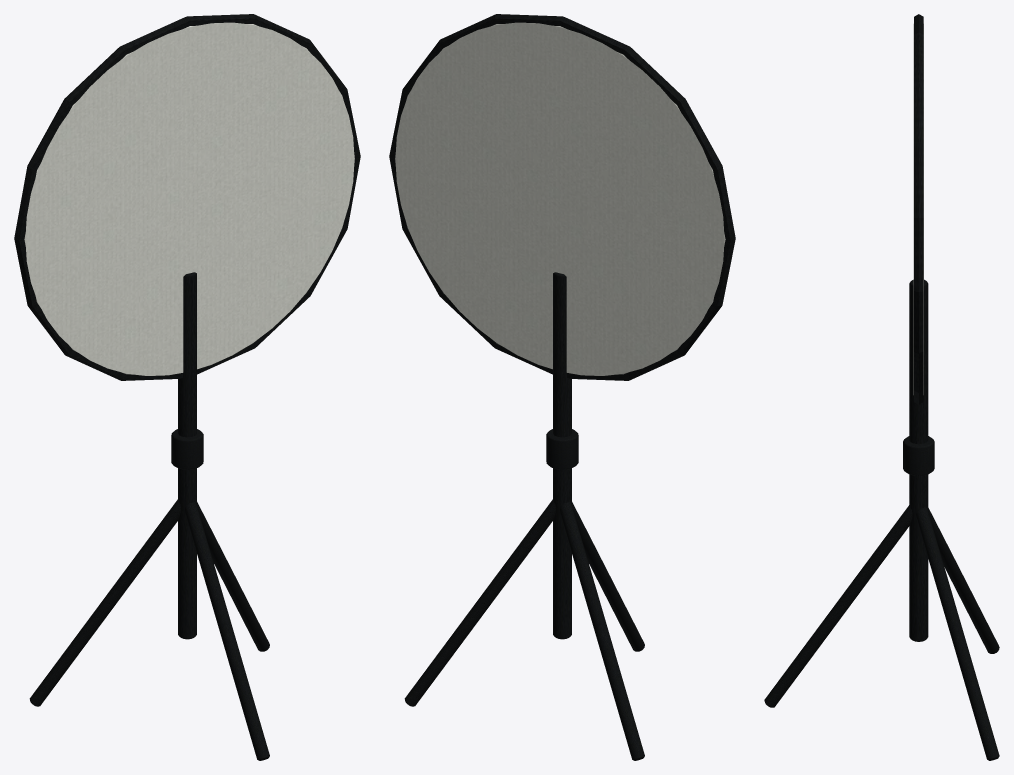
The model's file is photo-reflector-v1.glb.
The picture shows the model from 3 angles, left to right: view 1: azimuth 30°, elevation 25°; view 2: azimuth 150°, elevation 25°; view 3: azimuth 270°, elevation 25°; orthographic projection. The views are drawn at different scales.
Visible parts, largest first — view 1: Telescopic stand; view 2: Telescopic stand; view 3: Telescopic stand.
Part boxes in pixels (<box>): Telescopic stand: <box>14,14,360,760</box>; Telescopic stand: <box>389,14,735,760</box>; Telescopic stand: <box>764,14,999,760</box>.
Bounding box in the file's own units: 0.834 × 1.59 × 0.5017.
2 materials, 2 textured.
